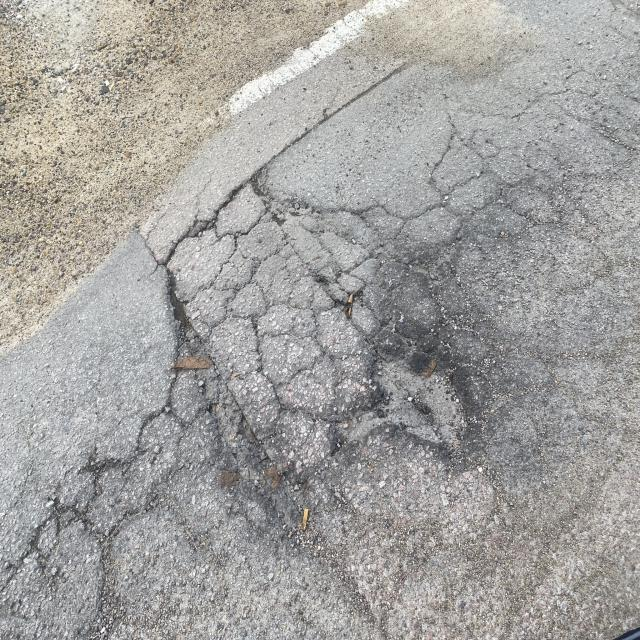Pothole: (160, 150, 476, 490)
